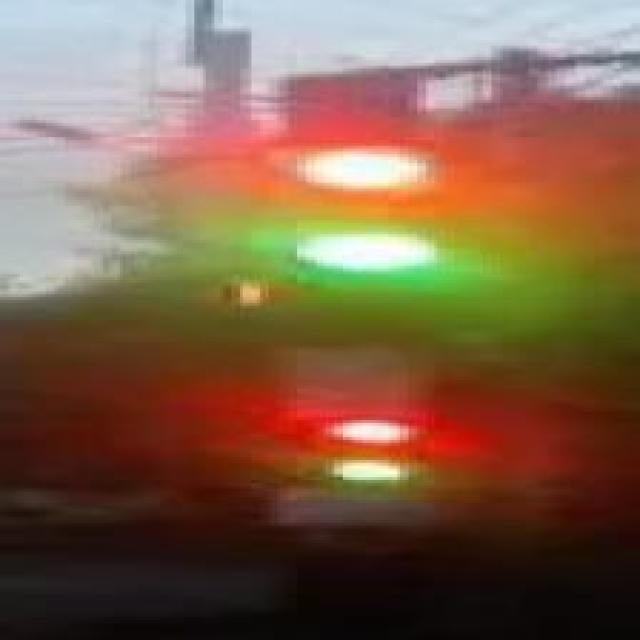green-lights: (293, 214, 436, 296)
red-lights: (272, 136, 484, 206)
